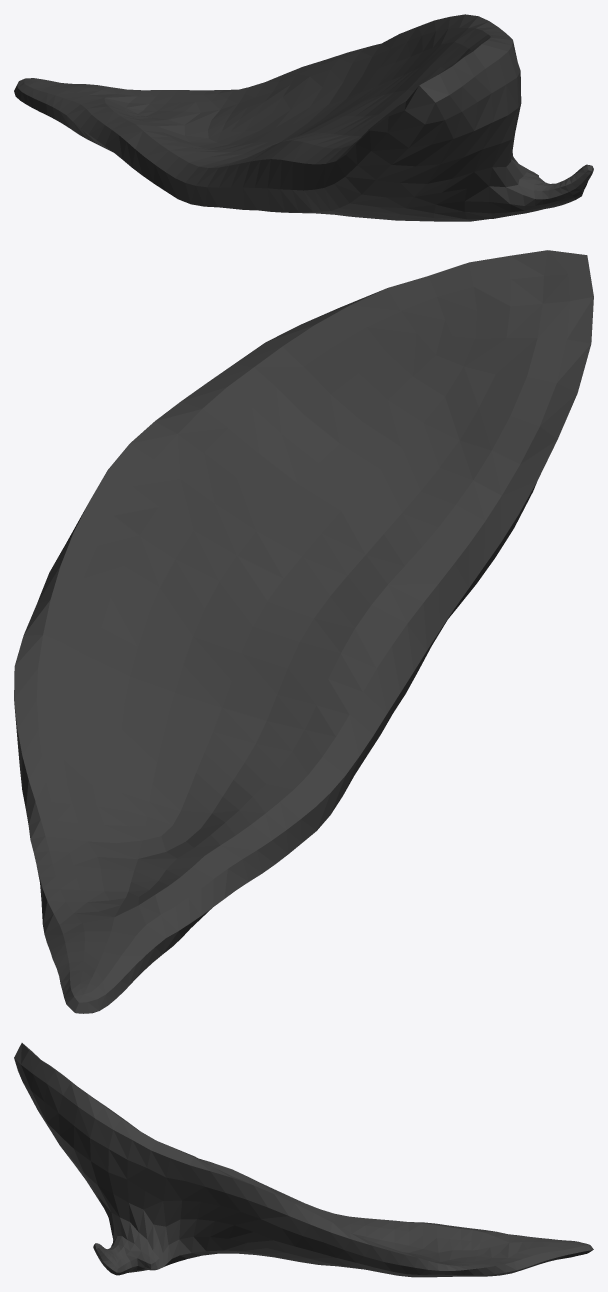
File: Pectoralis_profundus_1.glb
3 views of the same model, one above another, from view 1: azimuth 30°, elevation 25°; view 2: azimuth 150°, elevation 25°; view 3: azimuth 270°, elevation 25° (orthographic). The views are drawn at different scales.
Parts seen in each view (by area): view 1: Pectoralis_profundus_1; view 2: Pectoralis_profundus_1; view 3: Pectoralis_profundus_1.
Part boxes in pixels (box(x1,y1,x2,y2)): Pectoralis_profundus_1: box(14, 14, 593, 221); Pectoralis_profundus_1: box(14, 250, 593, 1013); Pectoralis_profundus_1: box(14, 1043, 593, 1277).
Bounding box in the file's own units: 0.3769 × 0.433 × 1.06.
Materials: 1 (1 with a texture image).
